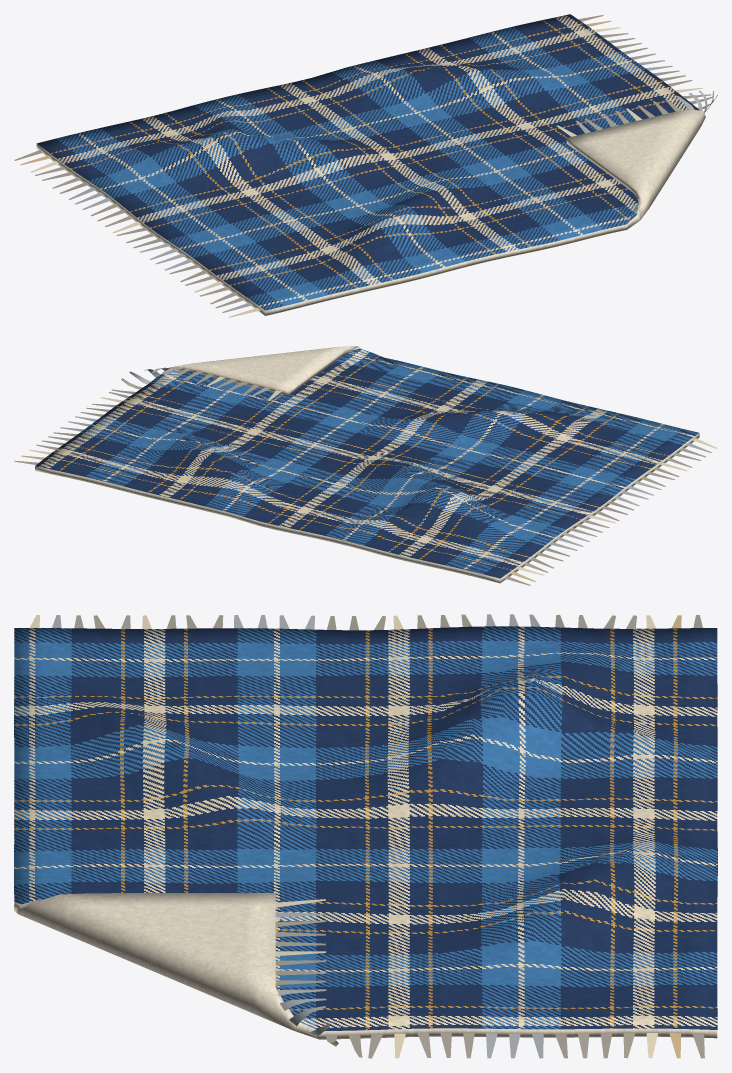
File: blanket.glb
3 views of the same model, one above another, from view 1: azimuth 30°, elevation 25°; view 2: azimuth 150°, elevation 25°; view 3: azimuth 270°, elevation 25° (orthographic). The views are drawn at different scales.
Parts seen in each view (by area): view 1: blanket; view 2: blanket; view 3: blanket.
Part boxes in pixels (<box>): blanket: <box>14,14,717,317</box>; blanket: <box>14,346,717,585</box>; blanket: <box>14,614,717,1058</box>.
Bounding box in the file's own units: 1.37 × 0.0706 × 0.9211.
3 materials, 3 textured.
